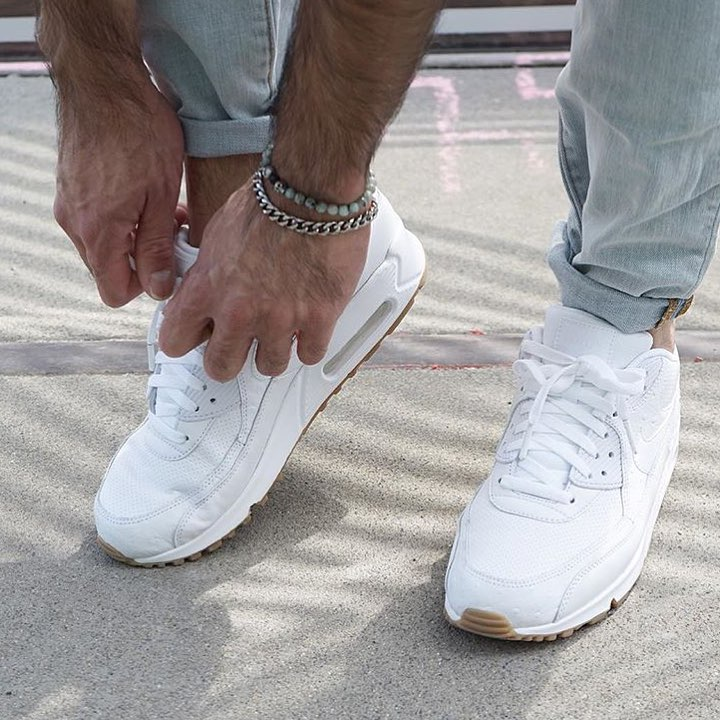sneaker: (64, 143, 448, 590), (408, 266, 706, 661)
